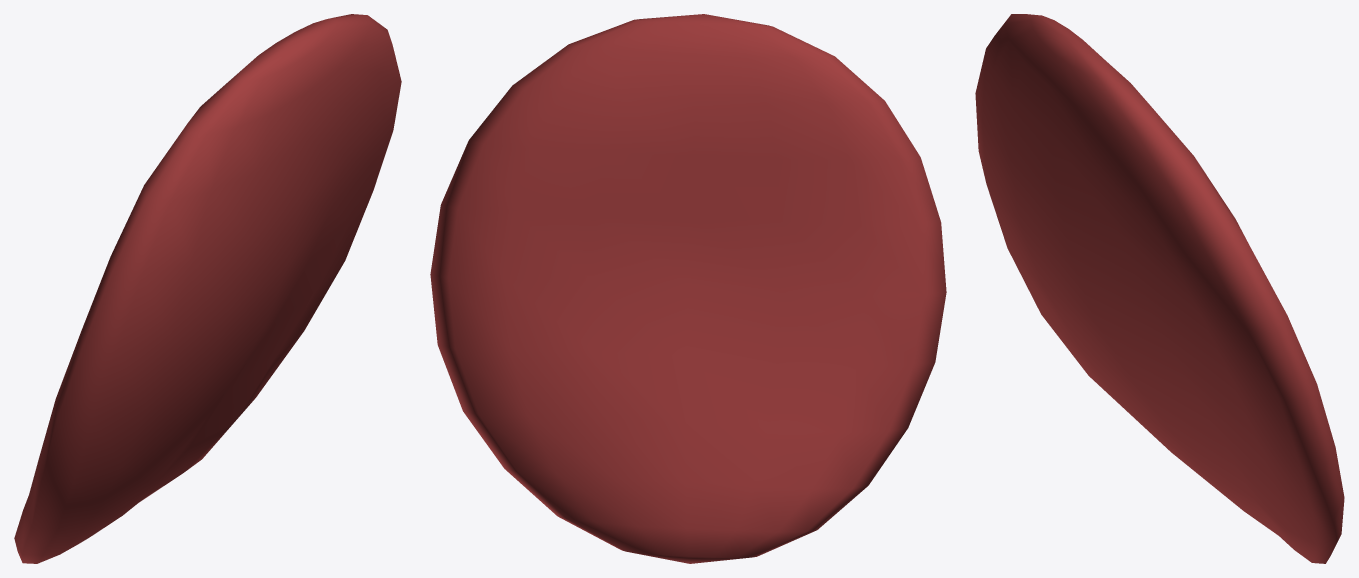
Rendered from coracobrachial-bursa-r.glb.
3 views of the same model, side by side, from view 1: azimuth 30°, elevation 25°; view 2: azimuth 150°, elevation 25°; view 3: azimuth 270°, elevation 25° (orthographic). The views are drawn at different scales.
Visible parts, largest first — view 1: Coracobrachial bursa.r; view 2: Coracobrachial bursa.r; view 3: Coracobrachial bursa.r.
Part boxes in pixels (x1=…): Coracobrachial bursa.r: x1=14, y1=14, x2=401, y2=563; Coracobrachial bursa.r: x1=430, y1=14, x2=946, y2=563; Coracobrachial bursa.r: x1=975, y1=14, x2=1344, y2=563.
Size of the model in its own units: 0.0198 by 0.0222 by 0.0137.
